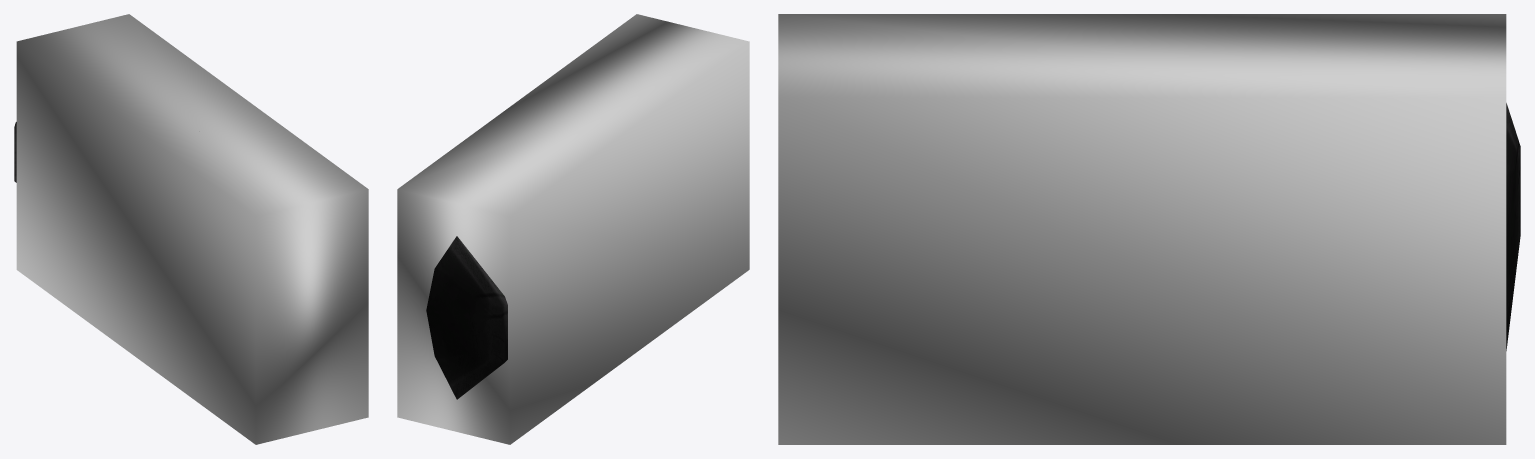
The model's file is pod_sidepiece.fbx.
3 views of the same model, side by side, from view 1: azimuth 30°, elevation 25°; view 2: azimuth 150°, elevation 25°; view 3: azimuth 270°, elevation 25° (orthographic). The views are drawn at different scales.
Visible parts, largest first — view 1: 0000_pod_sidepiece; view 2: 0000_pod_sidepiece, 0001_pod_sidepiece; view 3: 0000_pod_sidepiece, 0001_pod_sidepiece.
Part boxes in pixels (box(x1,y1,x2,y2)): 0000_pod_sidepiece: box(16, 14, 368, 444); 0000_pod_sidepiece: box(397, 14, 749, 444); 0001_pod_sidepiece: box(426, 236, 507, 399); 0000_pod_sidepiece: box(778, 14, 1506, 444); 0001_pod_sidepiece: box(1506, 103, 1520, 350).
Size of the model in its own units: 0.8599 by 1.66 by 3.22.
